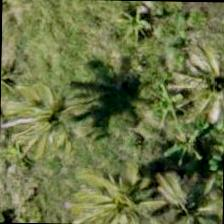Kelapa_Sawit: (0, 72, 85, 164), (65, 163, 158, 223), (170, 37, 223, 130)
